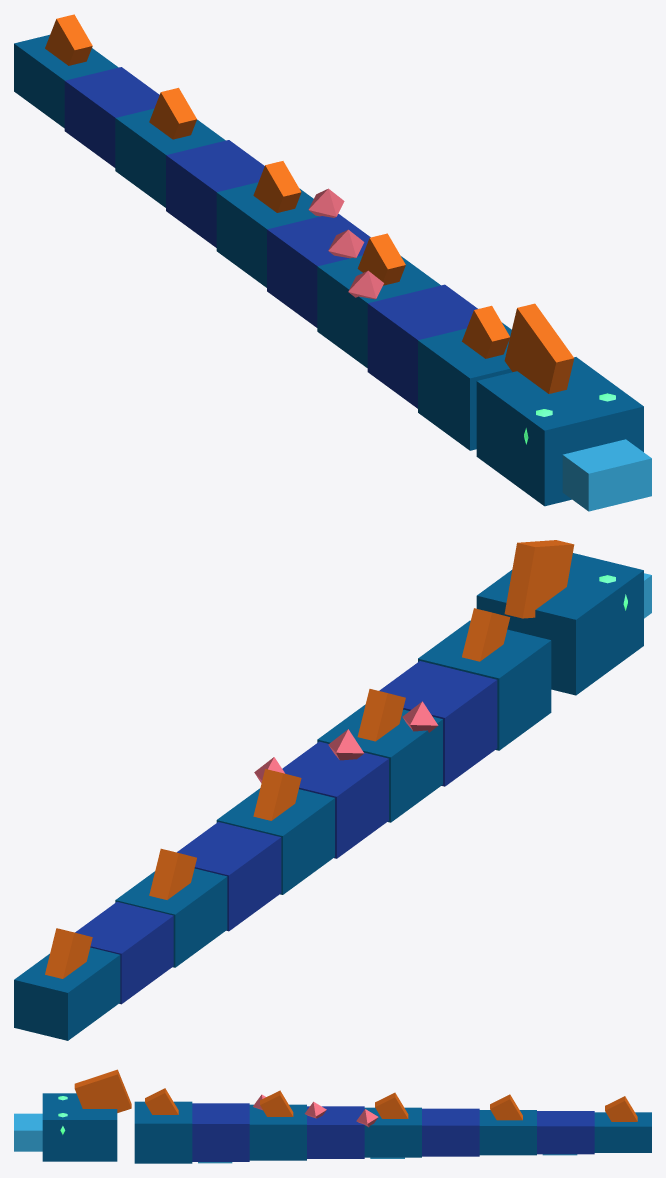
Rendered from SeaSnakeB.glb.
3 views of the same model, one above another, from view 1: azimuth 30°, elevation 25°; view 2: azimuth 150°, elevation 25°; view 3: azimuth 270°, elevation 25° (orthographic). The views are drawn at different scales.
Visible parts, largest first — view 1: SeaSnakeBody; view 2: SeaSnakeBody; view 3: SeaSnakeBody.
Part boxes in pixels (bbox=[...]): SeaSnakeBody: bbox=[14, 14, 651, 511]; SeaSnakeBody: bbox=[14, 540, 651, 1040]; SeaSnakeBody: bbox=[14, 1069, 651, 1163].
Bounding box in the file's own units: 0.23 × 0.323 × 2.22.
